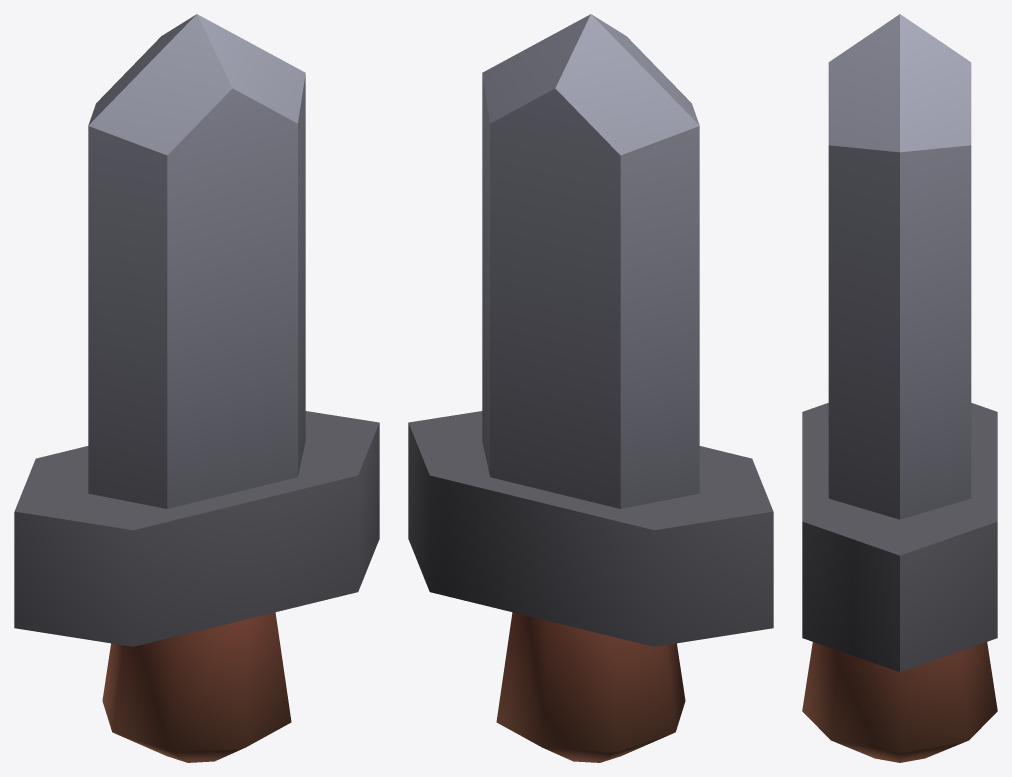
File: weapon-sword.glb
The picture shows the model from 3 angles, left to right: view 1: azimuth 30°, elevation 25°; view 2: azimuth 150°, elevation 25°; view 3: azimuth 270°, elevation 25°; orthographic projection.
Visible parts, largest first — view 1: weapon-sword; view 2: weapon-sword; view 3: weapon-sword.
Part boxes in pixels (bbox=[...]): weapon-sword: bbox=[14, 14, 379, 762]; weapon-sword: bbox=[408, 14, 773, 762]; weapon-sword: bbox=[802, 14, 997, 762].
Size of the model in its own units: 0.52 by 1 by 0.2415.
